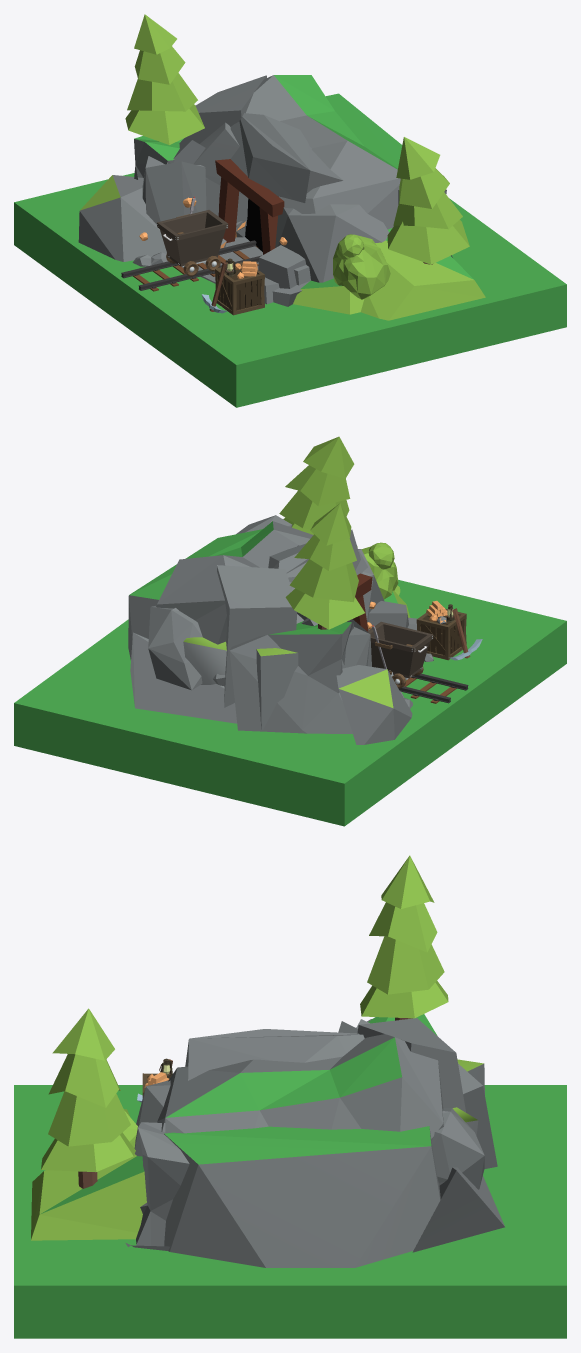
The model's file is mine_lvl3.fbx.
3 renders of one model, top to bottom at view 1: azimuth 30°, elevation 25°; view 2: azimuth 150°, elevation 25°; view 3: azimuth 270°, elevation 25°, orthographic. The views are drawn at different scales.
Visible parts, largest first — view 1: terrain, group1774266040, group1731338008, group1623525114, group1806860140, group897427996, group981371949, group595478641, group1806860140.001, cart, group414712452.001, group414712452 (+13 smaller); view 2: terrain, group954393760, group717177999, group1774266040, group1623525114, group981371949, group1731338008, group1774266040.001, group76132093, cart, group624108358.001, Crate (+7 smaller); view 3: terrain, group624108358.001, group1774266040, group1731338008, group1623525114, group897427996, group1806860140, group954393760.001, group1774266040.001, group717177999, group76132093, group954393760 (+1 smaller).
Part boxes in pixels (x1,y1,x2,y2): terrain: [14, 173, 566, 407]; group1774266040: [246, 75, 400, 229]; group1731338008: [387, 137, 469, 264]; group1623525114: [125, 14, 204, 144]; group1806860140: [230, 113, 343, 202]; group897427996: [361, 228, 485, 320]; group981371949: [78, 175, 166, 261]; group595478641: [275, 200, 389, 282]; group1806860140.001: [142, 156, 206, 224]; cart: [157, 196, 228, 276]; group414712452.001: [173, 122, 248, 222]; group414712452: [258, 245, 310, 306]; terrain: [14, 579, 566, 826]; group954393760: [229, 621, 353, 733]; group717177999: [183, 565, 298, 729]; group1774266040: [156, 521, 367, 644]; group1623525114: [285, 503, 364, 629]; group981371949: [336, 665, 412, 744]; group1731338008: [279, 436, 357, 546]; group1774266040.001: [130, 632, 237, 723]; group76132093: [148, 606, 202, 690]; cart: [367, 621, 433, 688]; group624108358.001: [128, 529, 262, 659]; Crate: [416, 608, 466, 660]; terrain: [14, 1085, 566, 1338]; group624108358.001: [164, 1126, 440, 1267]; group1774266040: [157, 1034, 450, 1140]; group1731338008: [41, 1008, 135, 1188]; group1623525114: [360, 855, 448, 1020]; group897427996: [31, 1141, 146, 1240]; group1806860140: [185, 1029, 364, 1080]; group954393760.001: [125, 1122, 189, 1250]; group1774266040.001: [412, 1167, 504, 1252]; group717177999: [357, 1018, 484, 1135]; group76132093: [431, 1108, 484, 1189]; group954393760: [368, 1014, 497, 1169].
Bounding box in the file's own units: 265 × 206 × 309.
